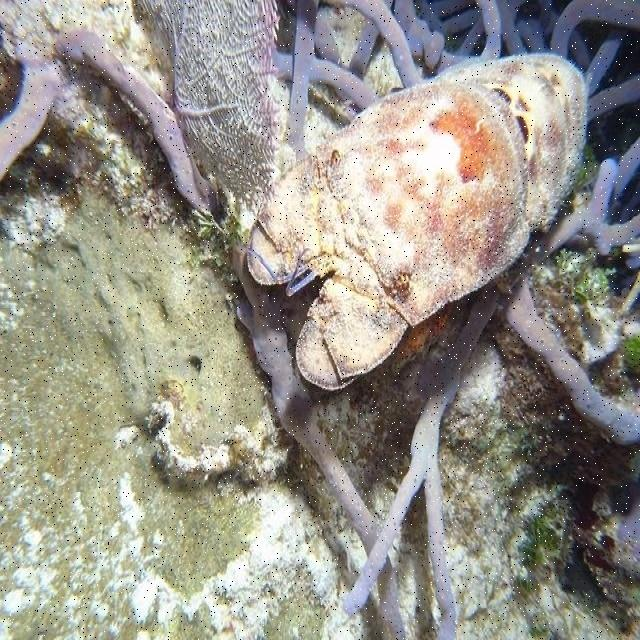fish: (246, 53, 589, 390)
reefs: (234, 0, 639, 639), (53, 1, 280, 228)
